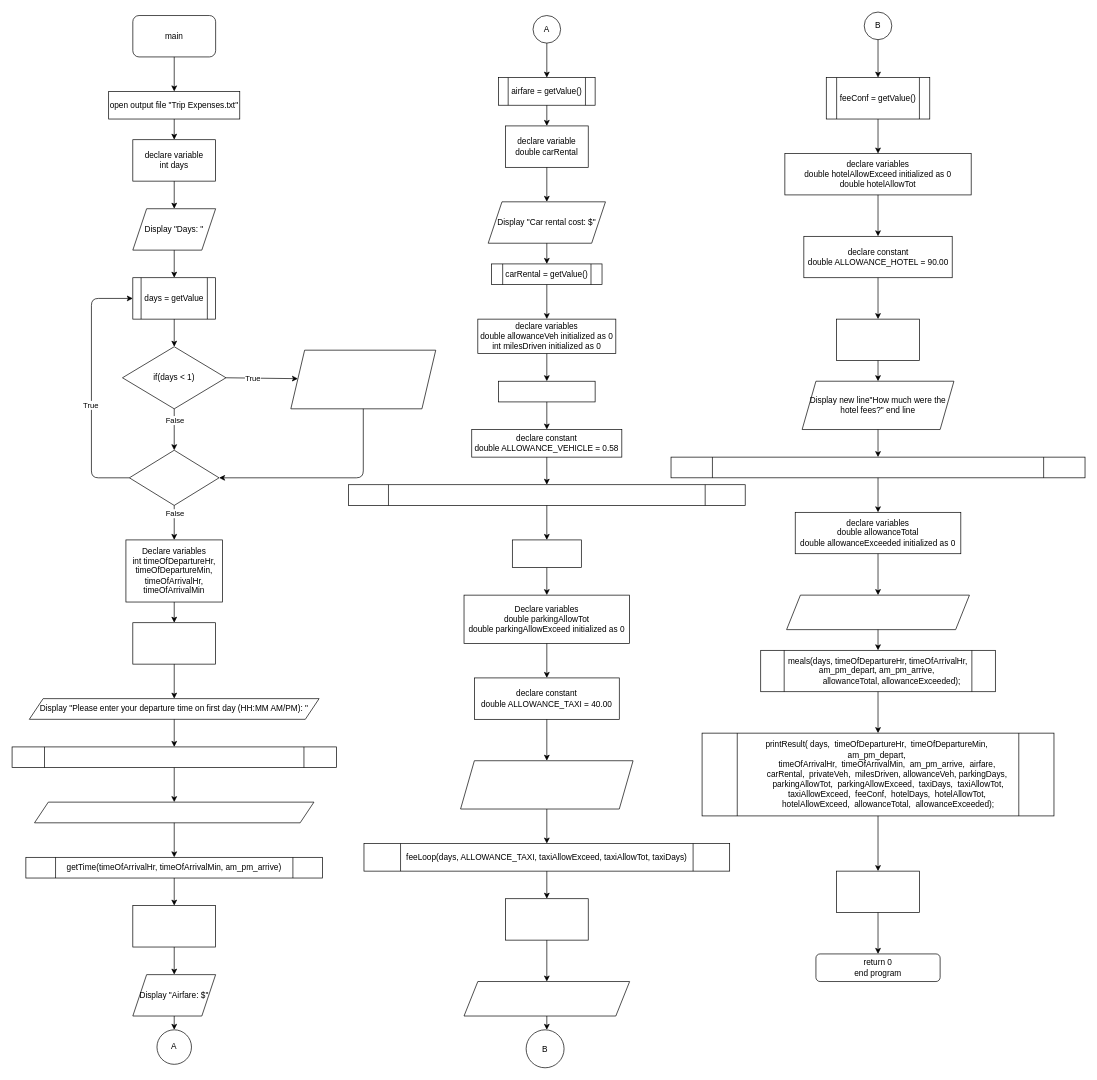
The diagram is 1097 pixels wide and 1080 high, and some of its shapes have lost their labels. The box of each missing label's shape, as (x1, y1, x2, y2) in pixels:
close output file: (836, 870, 919, 913)
declare string privateVeh: (498, 381, 595, 402)
Declare strings am_pm_depart, am_pm_arrive: (132, 622, 216, 664)
declare variable double airfare: (132, 905, 216, 947)
declare variable int hotelDays: (836, 318, 919, 361)
Declare variable int parkingDays: (512, 539, 581, 568)
declare variables double feeConf: (505, 898, 588, 940)
Display " Please enter your arrival time on last day (HH:MM AM/PM): ": (34, 801, 314, 823)
Display "ERROR: Days need to be greater than 0." End line: (290, 349, 436, 409)
Display new line"***Meals on Trip***" end line: (786, 594, 969, 630)
Display new line"Conference or seminar registration fees: $": (463, 981, 630, 1016)
Display new line"How much were the taxi fees? " end line: (460, 760, 633, 809)
feeLoop(days, ALLOWANCE_HOTEL, hotelAllowExceed, hotelAllowTot, hotelDays): (670, 456, 1085, 478)
getTime(timeOfDepartureHr, timeOfDepartureMin, am_pm_depart): (11, 746, 336, 768)
milesDrivenCalc(ALLOWANCE_VEHICLE, milesDriven, allowanceVeh, privateVeh): (348, 484, 745, 505)
while(days < 1): (129, 450, 219, 505)
